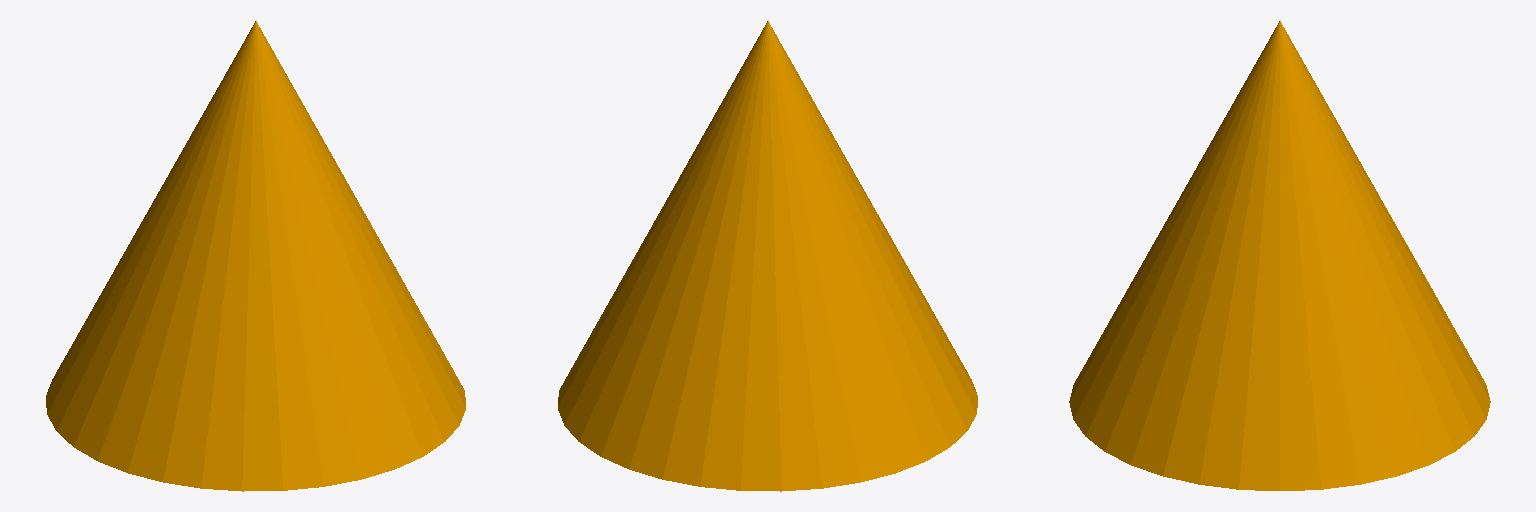
URDF robot description (my_object):
<?xml version="1.0" ?> 
<robot name="my_object">
  <link name="base_link">
  <inertial>
    <mass value="0.01" />
    <origin xyz="0 0 0" />
    <inertia  ixx="1.0" ixy="0.0"  ixz="0.0"  iyy="1.0"  iyz="0.0"  izz="1.0" />
  </inertial>
  <visual>
   <origin xyz="0 0 0.0" rpy="0 0 0" />
   <geometry>
     <mesh filename="package://cob_surface_classification/models/media/models/cone.dae" scale="0.1 0.1 0.1"/>
   </geometry>
  </visual>
  <collision>
   <origin xyz="0 0 0.0" rpy="0 0 0" />
   <!--geometry>
     <mesh filename="package://cob_surface_classification/models/media/models/cone.dae" scale="0.1 0.1 0.1">
   </geometry-->
  </collision>     
  </link>

<gazebo>
	<static>true</static>
</gazebo>

</robot>

--- Render facts (derived) ---
Views: 3 orthographic renders of the robot side by side, from view 1: azimuth 30°, elevation 25°; view 2: azimuth 150°, elevation 25°; view 3: azimuth 270°, elevation 25°.
Robot: my_object — 1 links, 0 joints (none); root link base_link; default pose: every joint at zero.
Visible links, largest first — view 1: base_link; view 2: base_link; view 3: base_link.
Boxes of the visible links, x1=… form: base_link: x1=46, y1=21, x2=465, y2=491; base_link: x1=558, y1=21, x2=977, y2=491; base_link: x1=1069, y1=21, x2=1490, y2=490.
Size in the robot's own frame: 0.2 by 0.2 by 0.2 metres.
Meshes: 1 distinct files referenced, 1 mesh visuals loaded (1 Collada DAE).